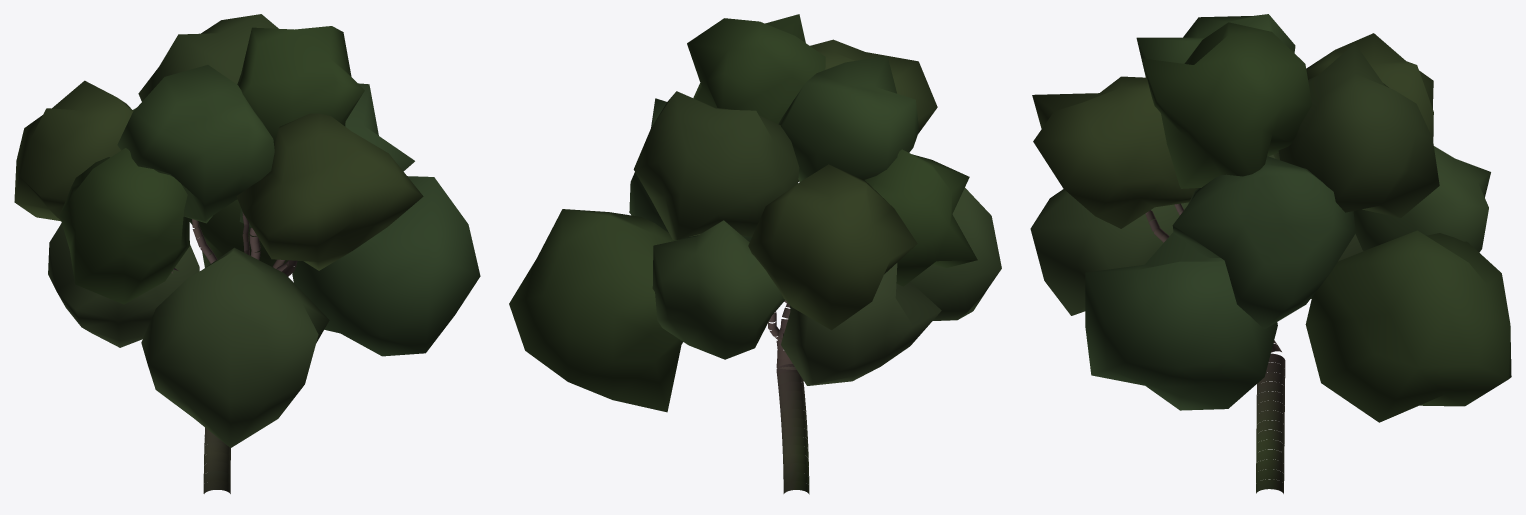
File: SM_TreeFar_sycamore_3.glb
3 renders of one model, left to right at view 1: azimuth 30°, elevation 25°; view 2: azimuth 150°, elevation 25°; view 3: azimuth 270°, elevation 25°, orthographic. The views are drawn at different scales.
Visible parts, largest first — view 1: SM_TreeFar_sycamore_3; view 2: SM_TreeFar_sycamore_3; view 3: SM_TreeFar_sycamore_3.
Boxes of the visible parts, bbox=[...] form: SM_TreeFar_sycamore_3: bbox=[14, 14, 480, 493]; SM_TreeFar_sycamore_3: bbox=[509, 14, 1001, 494]; SM_TreeFar_sycamore_3: bbox=[1030, 14, 1511, 493].
Bounding box in the file's own units: 12.49 × 14.88 × 13.25.
